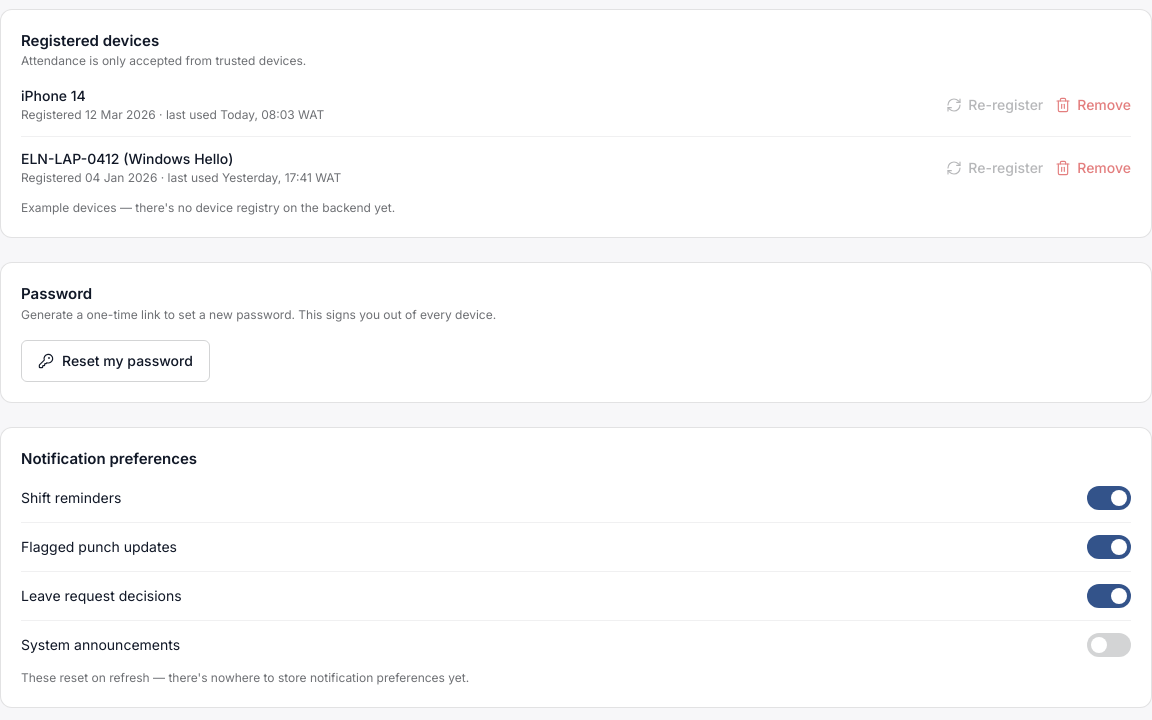
Scenario: requesting a password reset › shows the server’s reason when the request is refused
(page scrolled)
Click the button "Reset my password".
click(115, 360)  # box [21, 340, 210, 382]
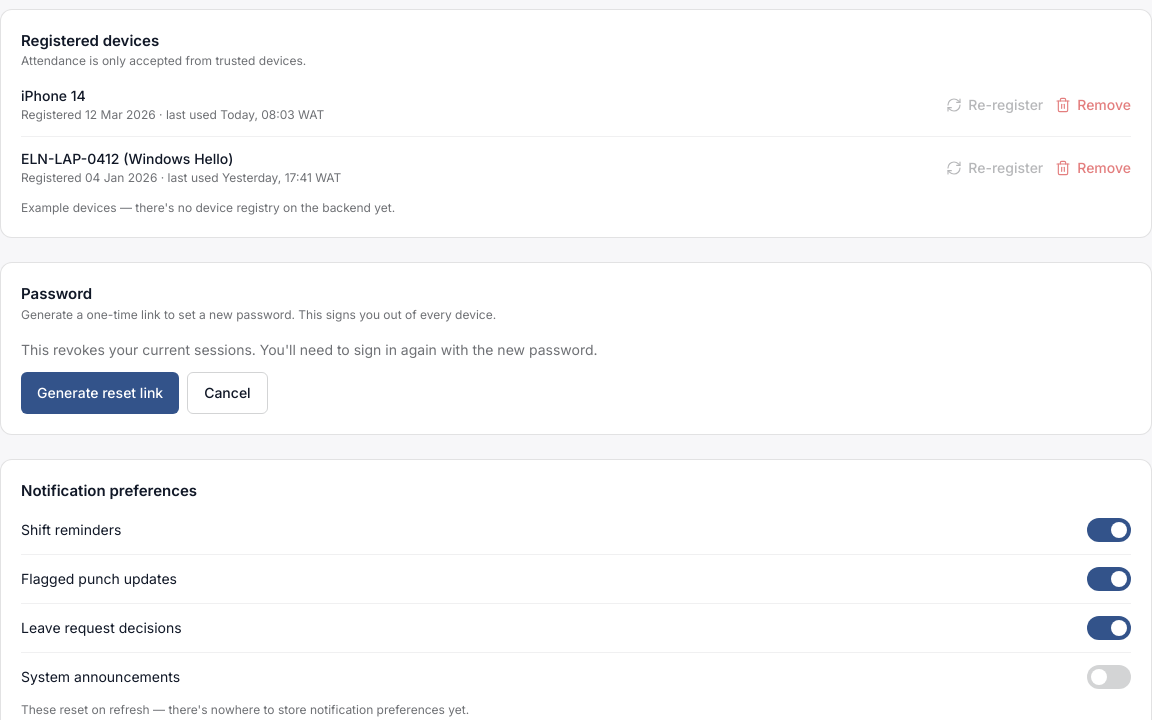
Click the button "Generate reset link".
click(100, 392)  # box [21, 372, 179, 414]
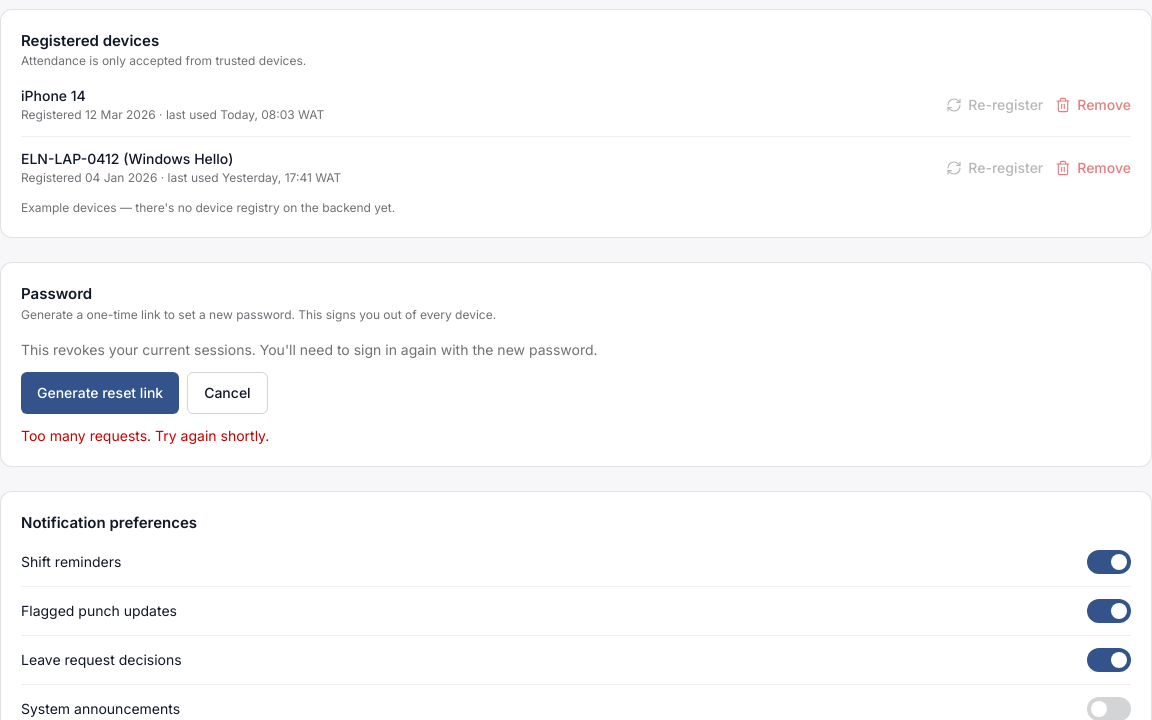
Expected: the text "Too many requests. Try again shortly." is shown, [21, 426, 269, 444]
